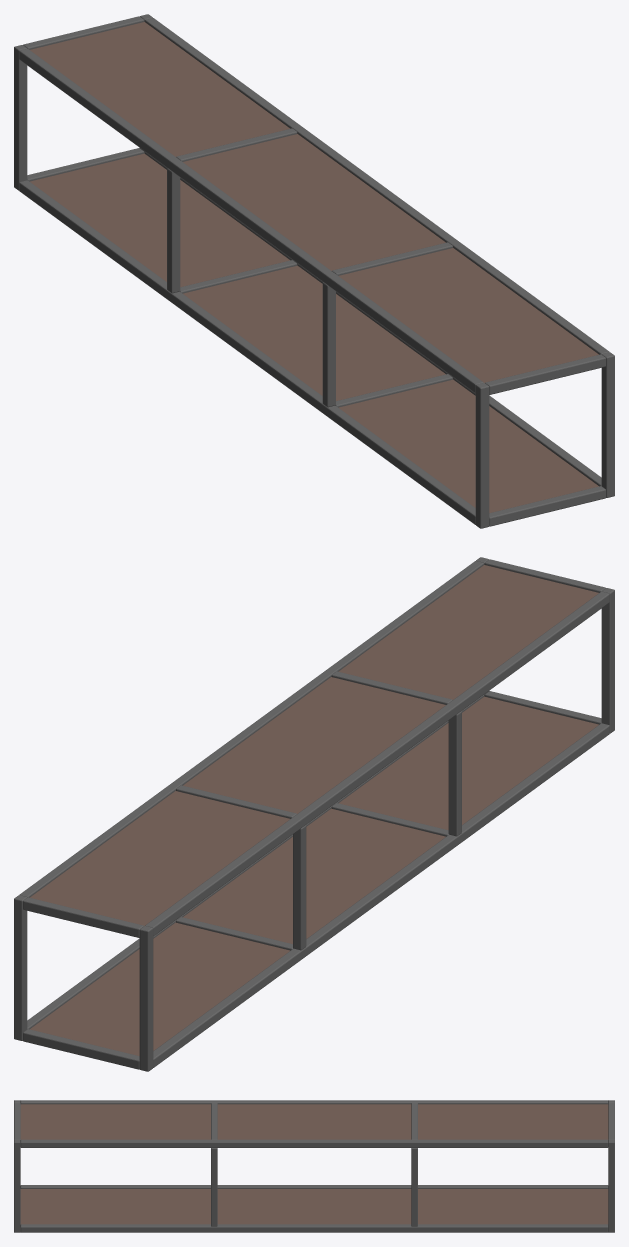
Rendered from WallShelf.fbx.
3 views of the same model, one above another, from view 1: azimuth 30°, elevation 25°; view 2: azimuth 150°, elevation 25°; view 3: azimuth 270°, elevation 25° (orthographic). The views are drawn at different scales.
Visible parts, largest first — view 1: ShelfBoard, ShelfFrame; view 2: ShelfBoard, ShelfFrame; view 3: ShelfBoard, ShelfFrame.
Boxes of the visible parts, box(x1,y1,x2,y2) form: ShelfBoard: box(30, 22, 598, 512); ShelfFrame: box(14, 14, 614, 528); ShelfBoard: box(30, 565, 598, 1055); ShelfFrame: box(14, 557, 614, 1071); ShelfBoard: box(20, 1104, 608, 1224); ShelfFrame: box(14, 1100, 614, 1232).
Bounding box in the file's own units: 0.3 × 0.3 × 1.8.
